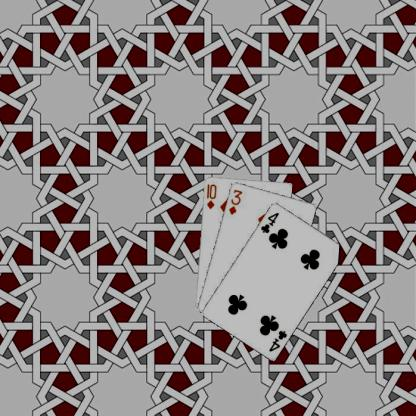10D: (204, 181, 217, 210)
3D: (226, 186, 244, 216)
4C: (266, 328, 288, 353), (258, 210, 280, 234)
